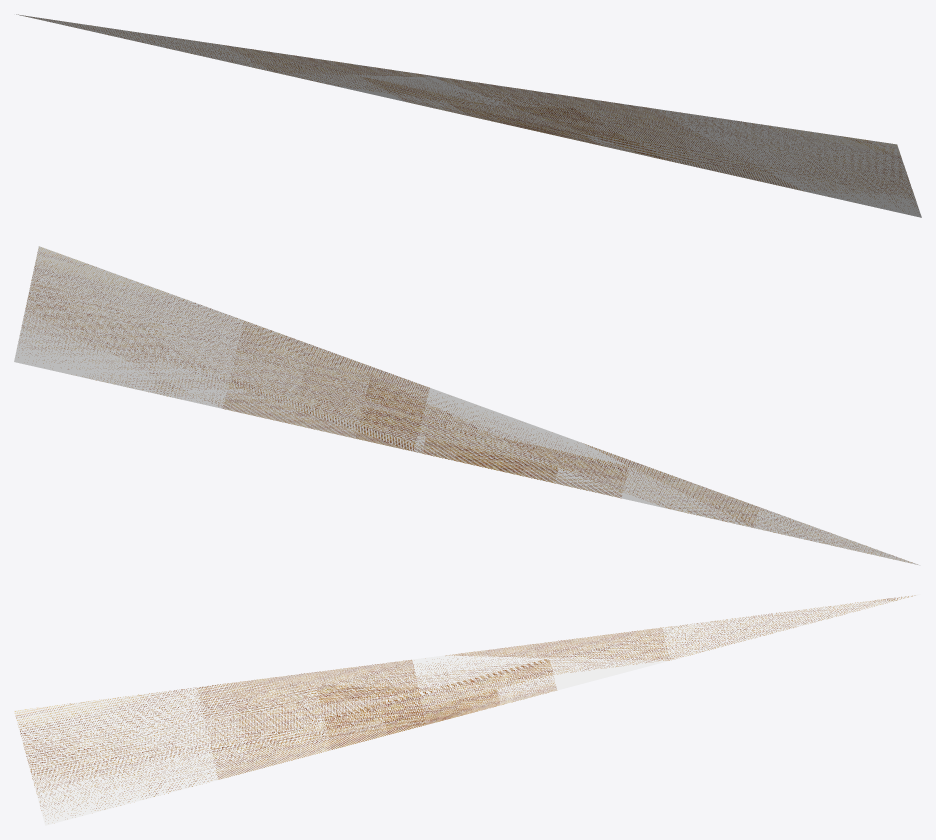
The model's file is 西庸城堡223.dae.
3 views of the same model, one above another, from view 1: azimuth 30°, elevation 25°; view 2: azimuth 210°, elevation 25°; view 3: azimuth 270°, elevation 25° (orthographic).
Parts seen in each view (by area): view 1: SketchUp; view 2: SketchUp; view 3: SketchUp.
Boxes of the visible parts, x1,y1,x2,y2 form: SketchUp: (16,14,921,217); SketchUp: (14,246,920,565); SketchUp: (14,594,920,825).
Bounding box in the file's own units: 308 × 510 × 59.06.
